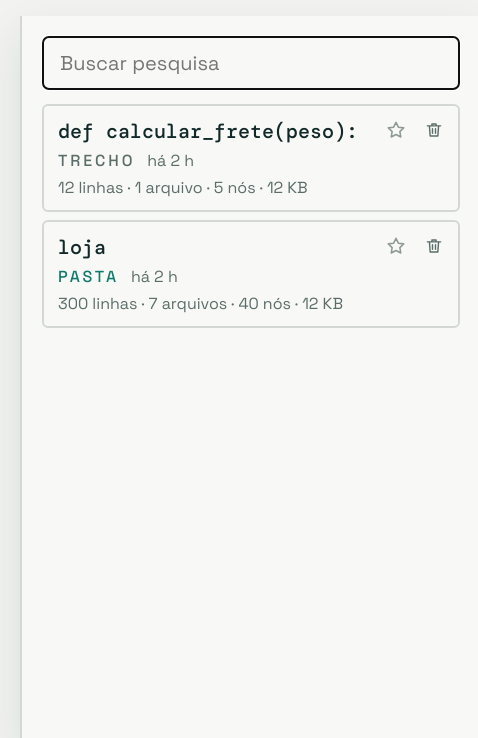
Test case: HistoryDrawer › deletes a row
The width and height of the screenshot is (478, 738).
Click the button named "Apagar loja" at (434,246), box [416,228,452,264]
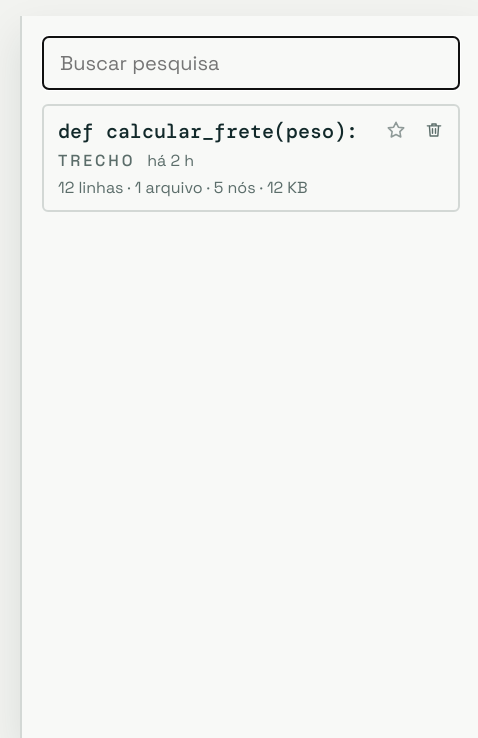
Expected: the number of list items is 1, [42,104,460,212]
